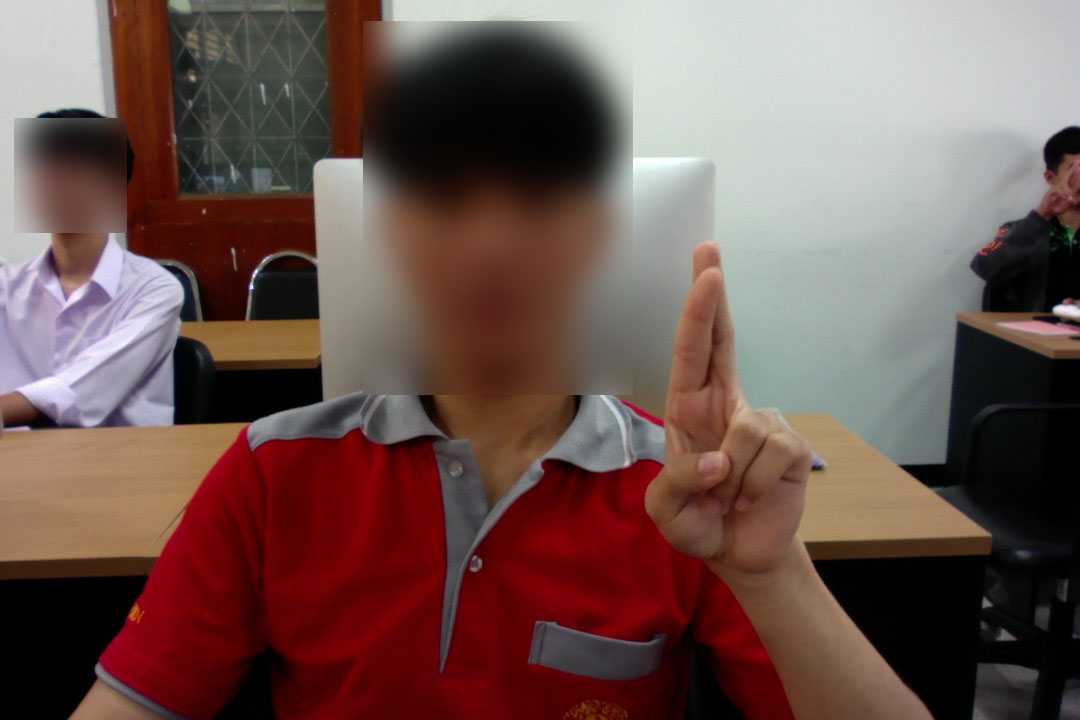rao: (637, 239, 821, 593)
